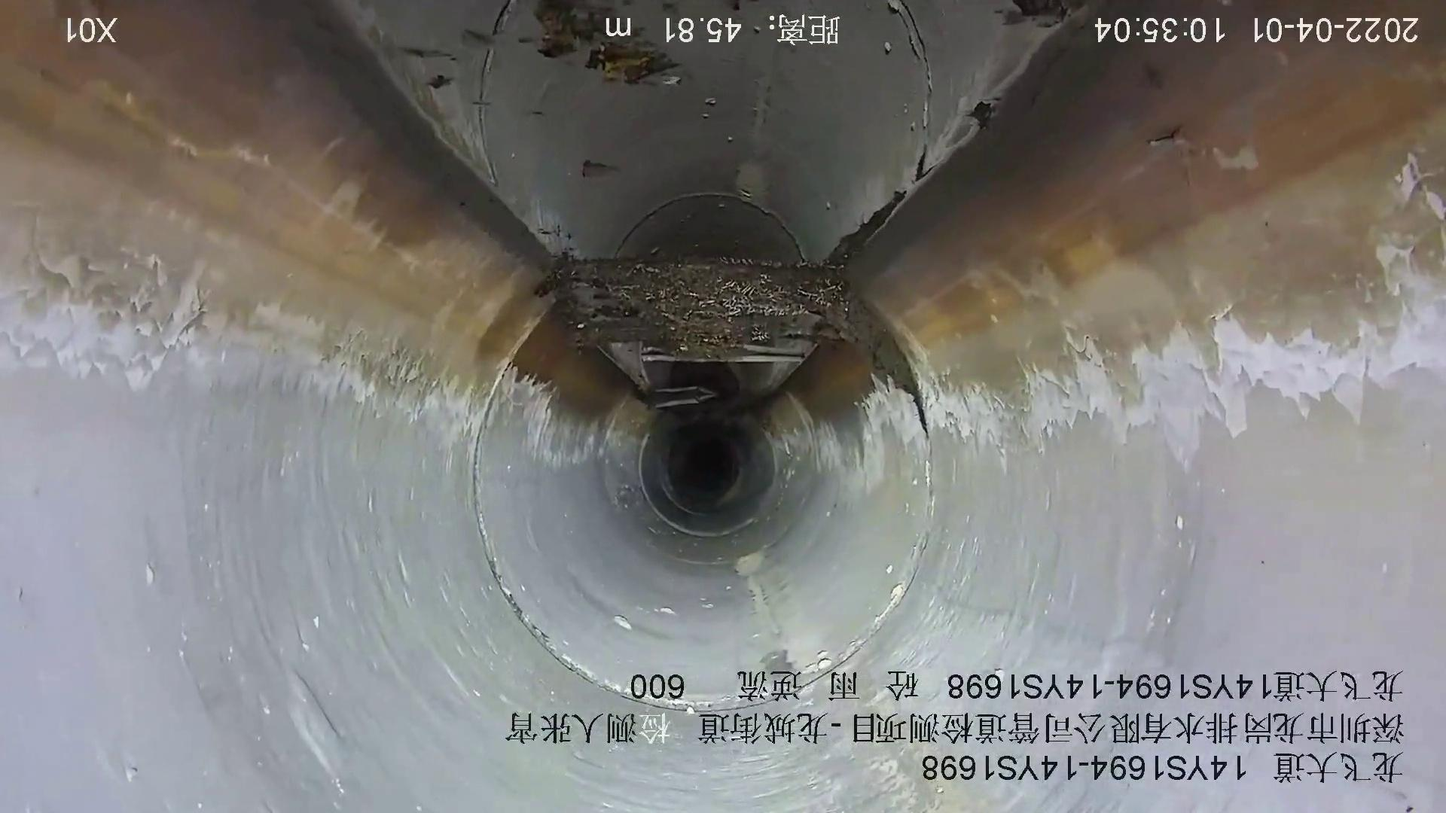CJ: (542, 254, 925, 429), (639, 369, 801, 425)
CKTJ: (465, 297, 945, 718), (634, 425, 781, 541)
